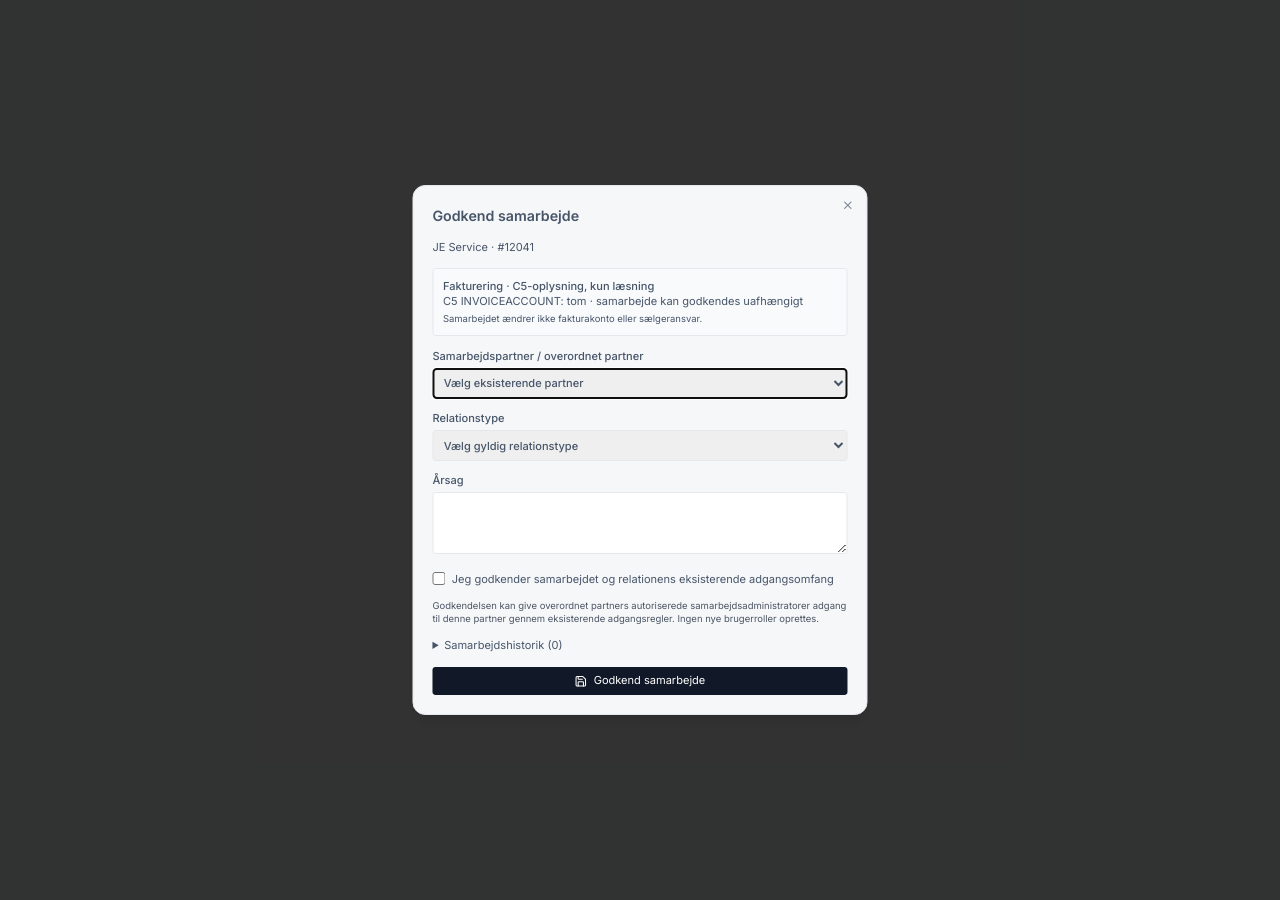
permanent Backend cooperation actions › reviews dealer → service_partner independently of billing
Later steps or results of the test are not shown.
Expected: the text "C5 INVOICEACCOUNT: tom · samarbejde kan godkendes uafhængigt" is shown, [443,294,837,310]
Select "10295 · AB Lauridsen" in the dropdown labelled "Samarbejdspartner / overordnet partner" at (640, 383), box [432,368,848,399]
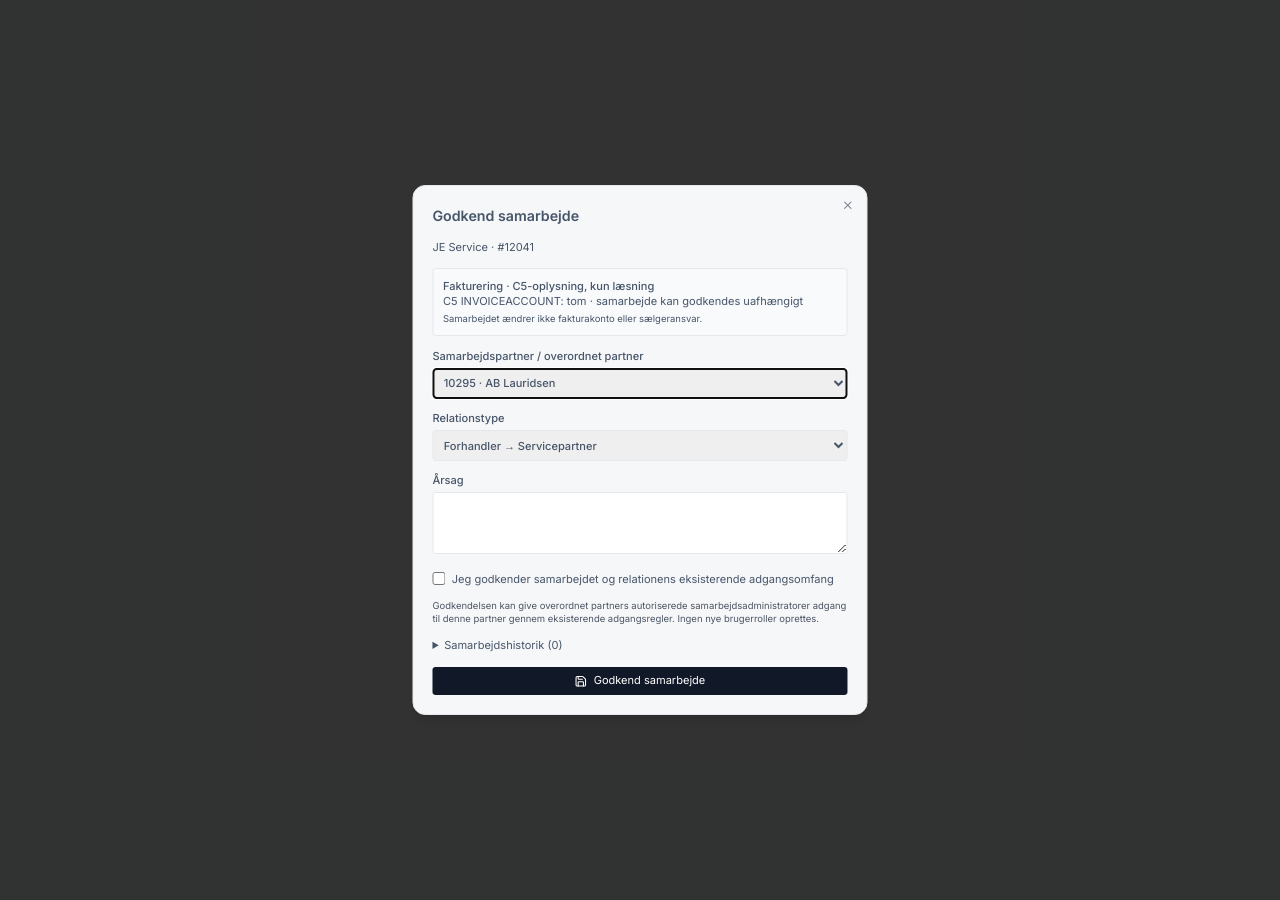
Now the dropdown labelled "Relationstype" shows "Forhandler → Servicepartner", box [432,430,848,461]
